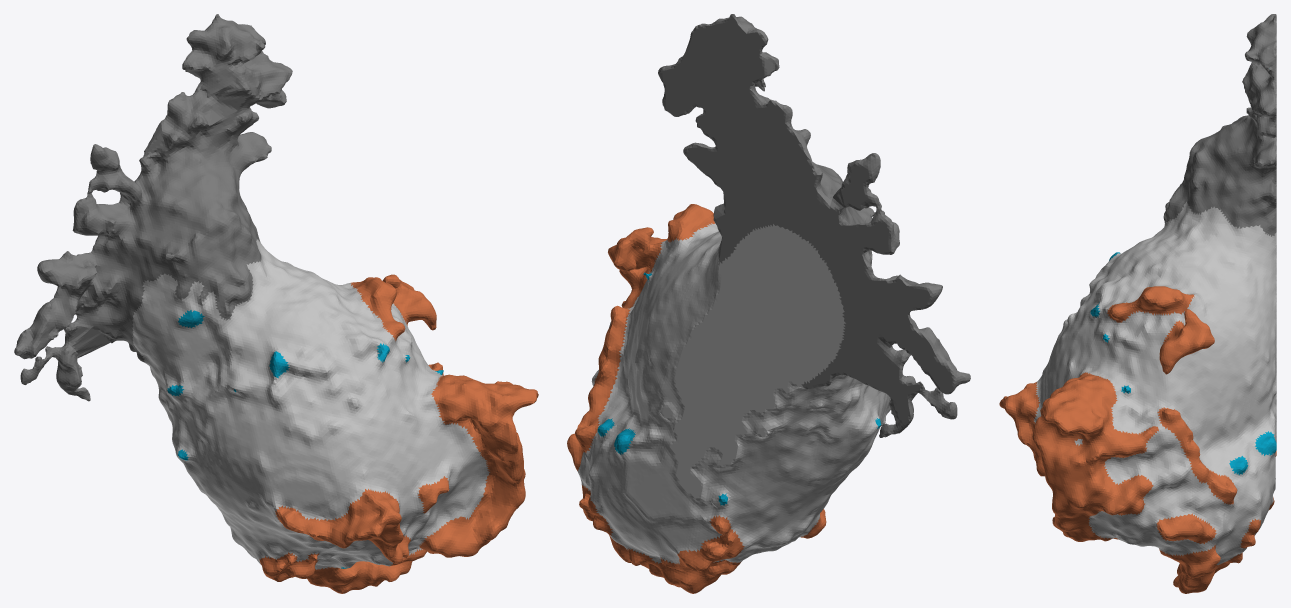
The picture shows the model from 3 angles, left to right: view 1: azimuth 30°, elevation 25°; view 2: azimuth 150°, elevation 25°; view 3: azimuth 270°, elevation 25°; orthographic projection. The views are drawn at different scales.
Bounding box in the file's own units: 144 × 188 × 89.79.
